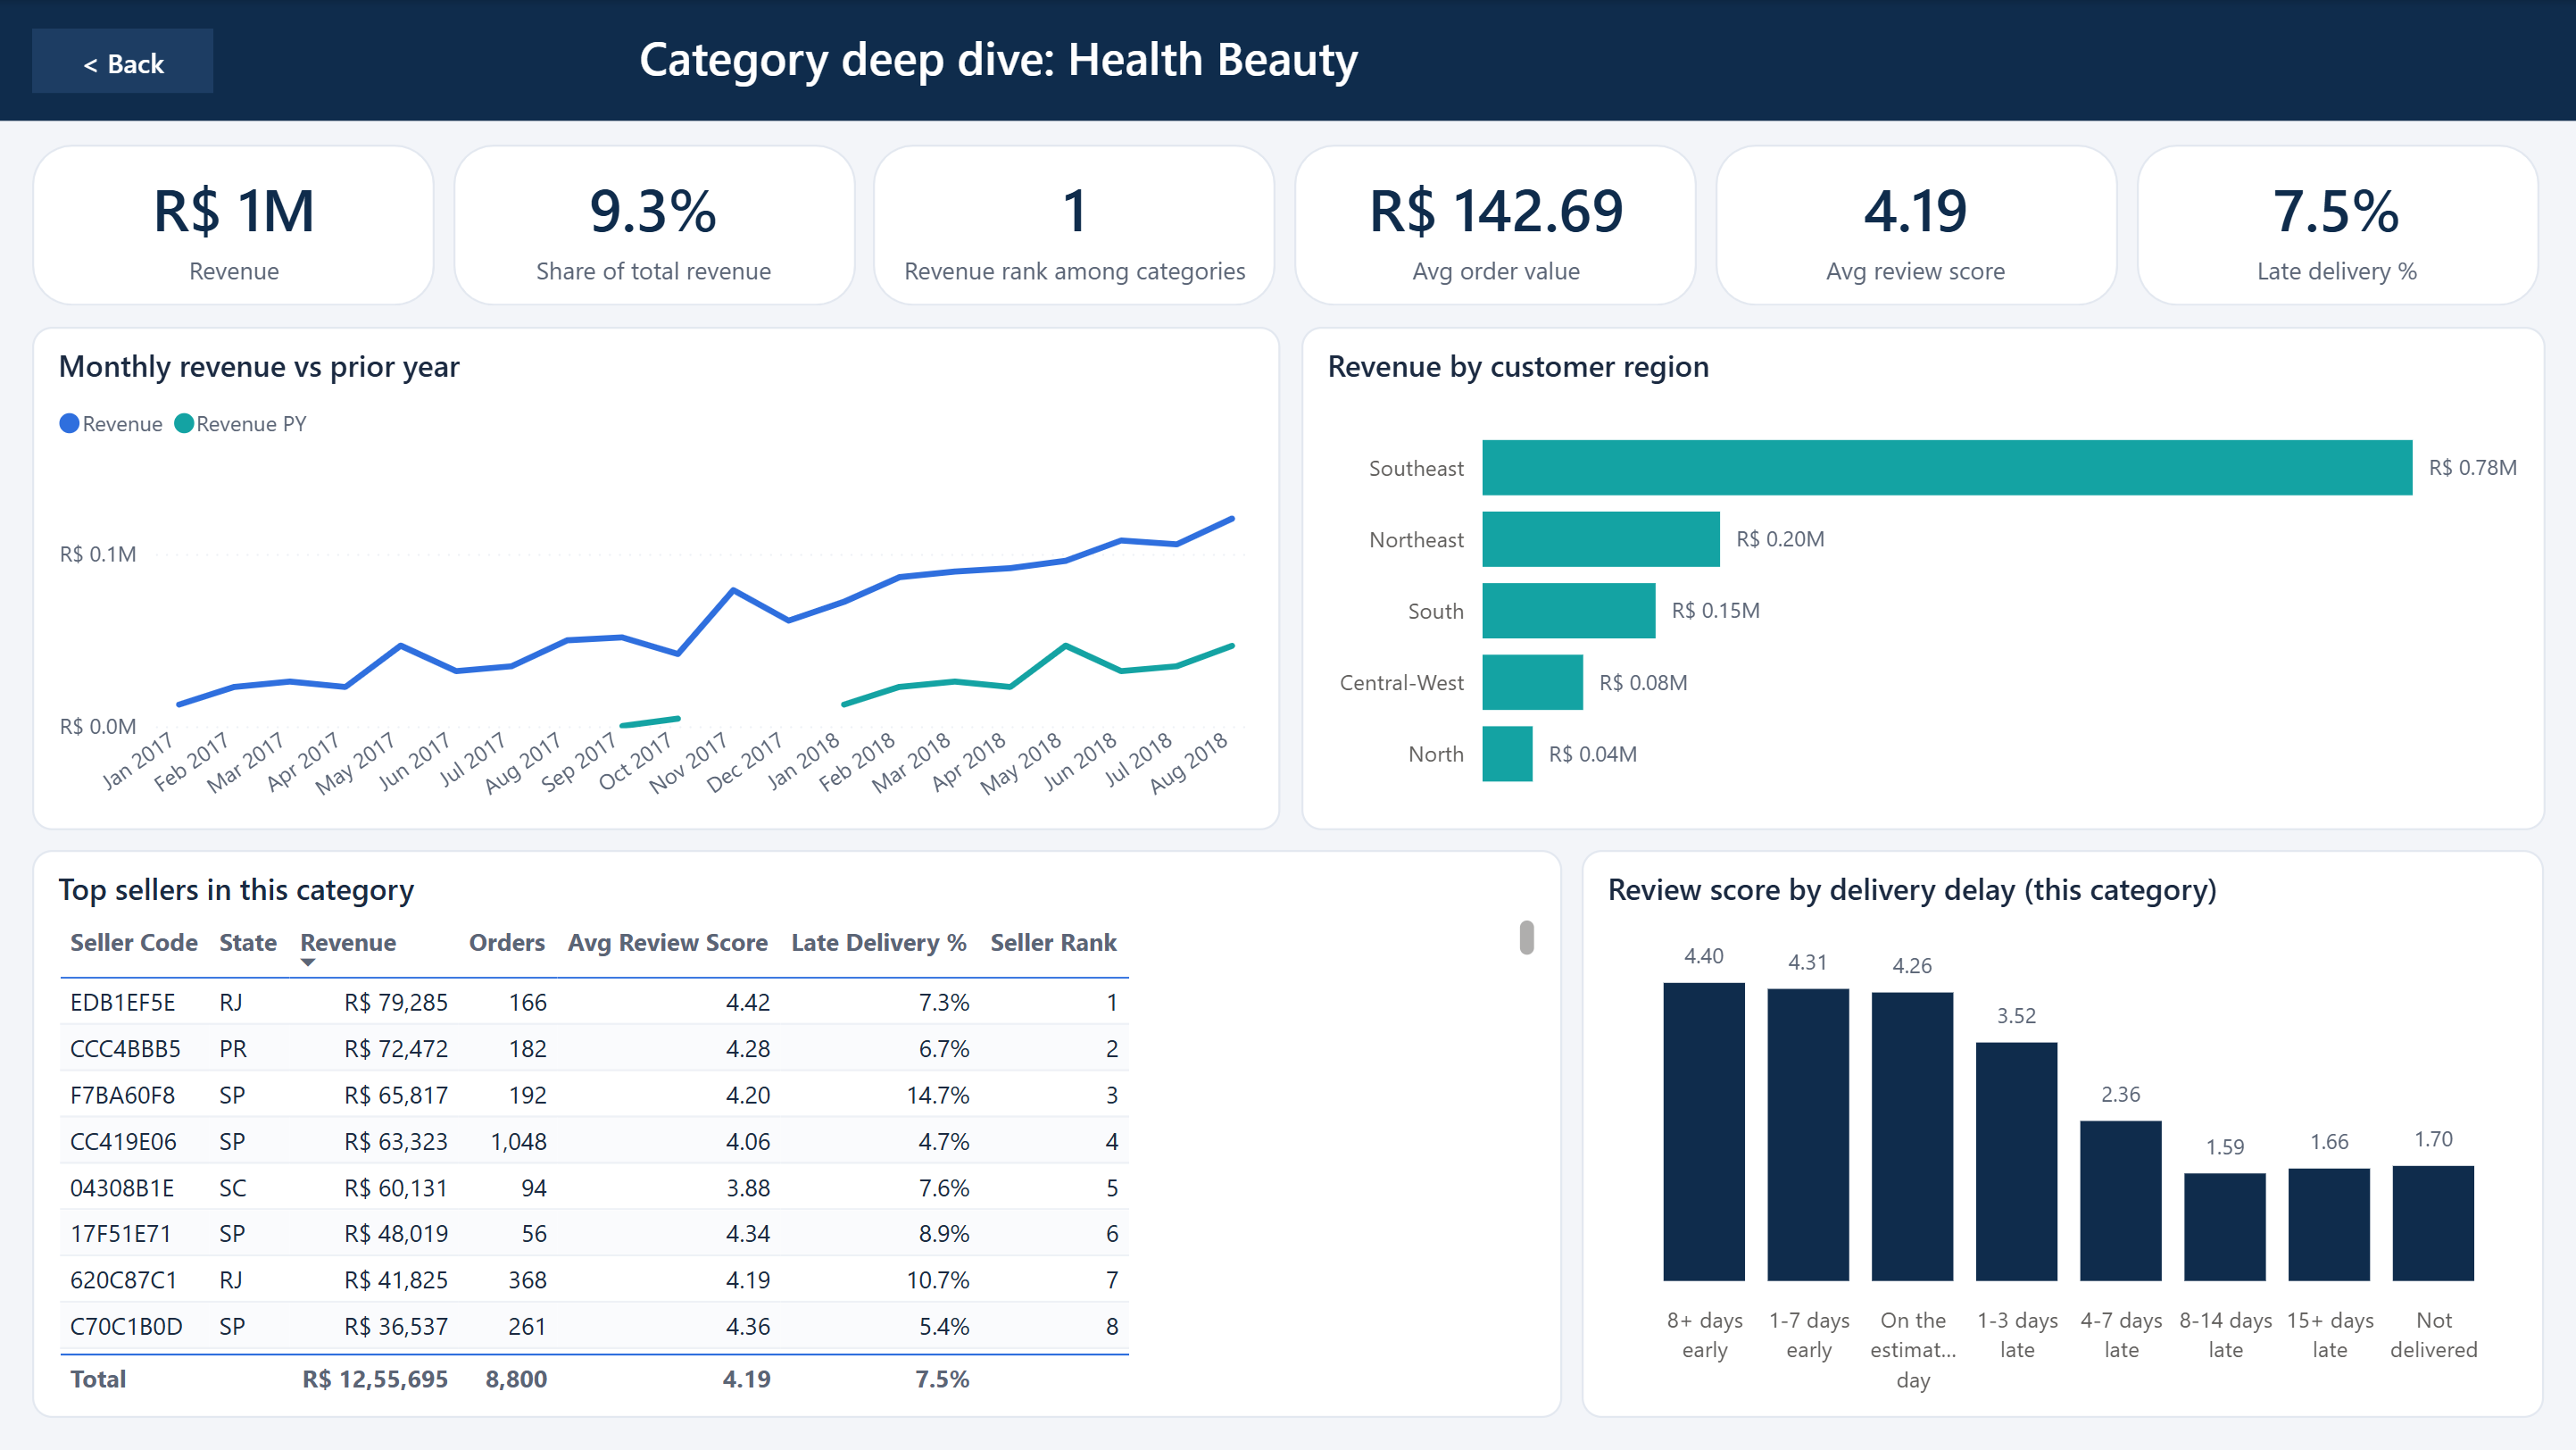

What the dashboard file says about the page in this screenshot:
{"tool":"powerbi","page":{"name":"Category Details","canvas":[1280,720],"ordinal":4},"visuals":[{"type":"shape","box":[0,0,1280,60],"z":10300},{"type":"actionButton","box":[16,14,90,32],"z":10400},{"type":"card","fields":{"Values":["_Measures.Category Title"]},"box":[116,8,760,44],"z":10500},{"type":"shape","box":[16,72,200,80],"z":10600},{"type":"card","fields":{"Values":["_Measures.Revenue"]},"box":[20,76,192,72],"z":10700},{"type":"shape","box":[225,72,200,80],"z":10800},{"type":"card","fields":{"Values":["_Measures.Category Share of Revenue"]},"box":[229,76,192,72],"z":10900},{"type":"shape","box":[434,72,200,80],"z":11000},{"type":"card","fields":{"Values":["_Measures.Category Rank (All)"]},"box":[438,76,192,72],"z":11100},{"type":"shape","box":[643,72,200,80],"z":11200},{"type":"card","fields":{"Values":["_Measures.AOV"]},"box":[647,76,192,72],"z":11300},{"type":"shape","box":[852,72,200,80],"z":11400},{"type":"card","fields":{"Values":["_Measures.Avg Review Score"]},"box":[856,76,192,72],"z":11500},{"type":"shape","box":[1061,72,200,80],"z":11600},{"type":"card","fields":{"Values":["_Measures.Late Delivery %"]},"box":[1065,76,192,72],"z":11700},{"type":"lineChart","title":"Monthly revenue vs prior year","fields":{"Category":["Date.Year Month"],"Y":["_Measures.Revenue","_Measures.Revenue PY"]},"box":[16,162,620,250],"z":11800},{"type":"clusteredBarChart","title":"Revenue by customer region","fields":{"Category":["Customer.Region"],"Y":["_Measures.Revenue"]},"box":[646,162,618,250],"z":11900},{"type":"tableEx","title":"Top sellers in this category","fields":{"Values":["Seller.Seller Code","Seller.State","_Measures.Revenue","_Measures.Orders","_Measures.Avg Review Score","_Measures.Late Delivery %","_Measures.Seller Rank"]},"box":[16,422,760,282],"z":12000},{"type":"columnChart","title":"Review score by delivery delay (this category)","fields":{"Category":["Orders.Delay Bucket"],"Y":["_Measures.Avg Review Score"]},"box":[786,422,478,282],"z":12100}]}

Visuals, with their boxes in screenshot pixels (x1, y1, x2, y2), scaled from the page's 1280x720 canvas onto the 2576x1450 screenshot:
shape: <region>0, 0, 2575, 121</region>
actionButton: <region>32, 29, 213, 93</region>
card - _Measures.Category Title: <region>234, 16, 1763, 104</region>
shape: <region>32, 145, 435, 306</region>
card - _Measures.Revenue: <region>40, 153, 427, 298</region>
shape: <region>453, 145, 855, 306</region>
card - _Measures.Category Share of Revenue: <region>461, 153, 847, 298</region>
shape: <region>874, 145, 1276, 306</region>
card - _Measures.Category Rank (All): <region>882, 153, 1267, 298</region>
shape: <region>1294, 145, 1697, 306</region>
card - _Measures.AOV: <region>1302, 153, 1689, 298</region>
shape: <region>1715, 145, 2117, 306</region>
card - _Measures.Avg Review Score: <region>1723, 153, 2109, 298</region>
shape: <region>2135, 145, 2538, 306</region>
card - _Measures.Late Delivery %: <region>2143, 153, 2530, 298</region>
"Monthly revenue vs prior year" lineChart: <region>32, 326, 1280, 829</region>
"Revenue by customer region" clusteredBarChart: <region>1300, 326, 2544, 829</region>
"Top sellers in this category" tableEx: <region>32, 850, 1562, 1418</region>
"Review score by delivery delay (this category)" columnChart: <region>1582, 850, 2544, 1418</region>
